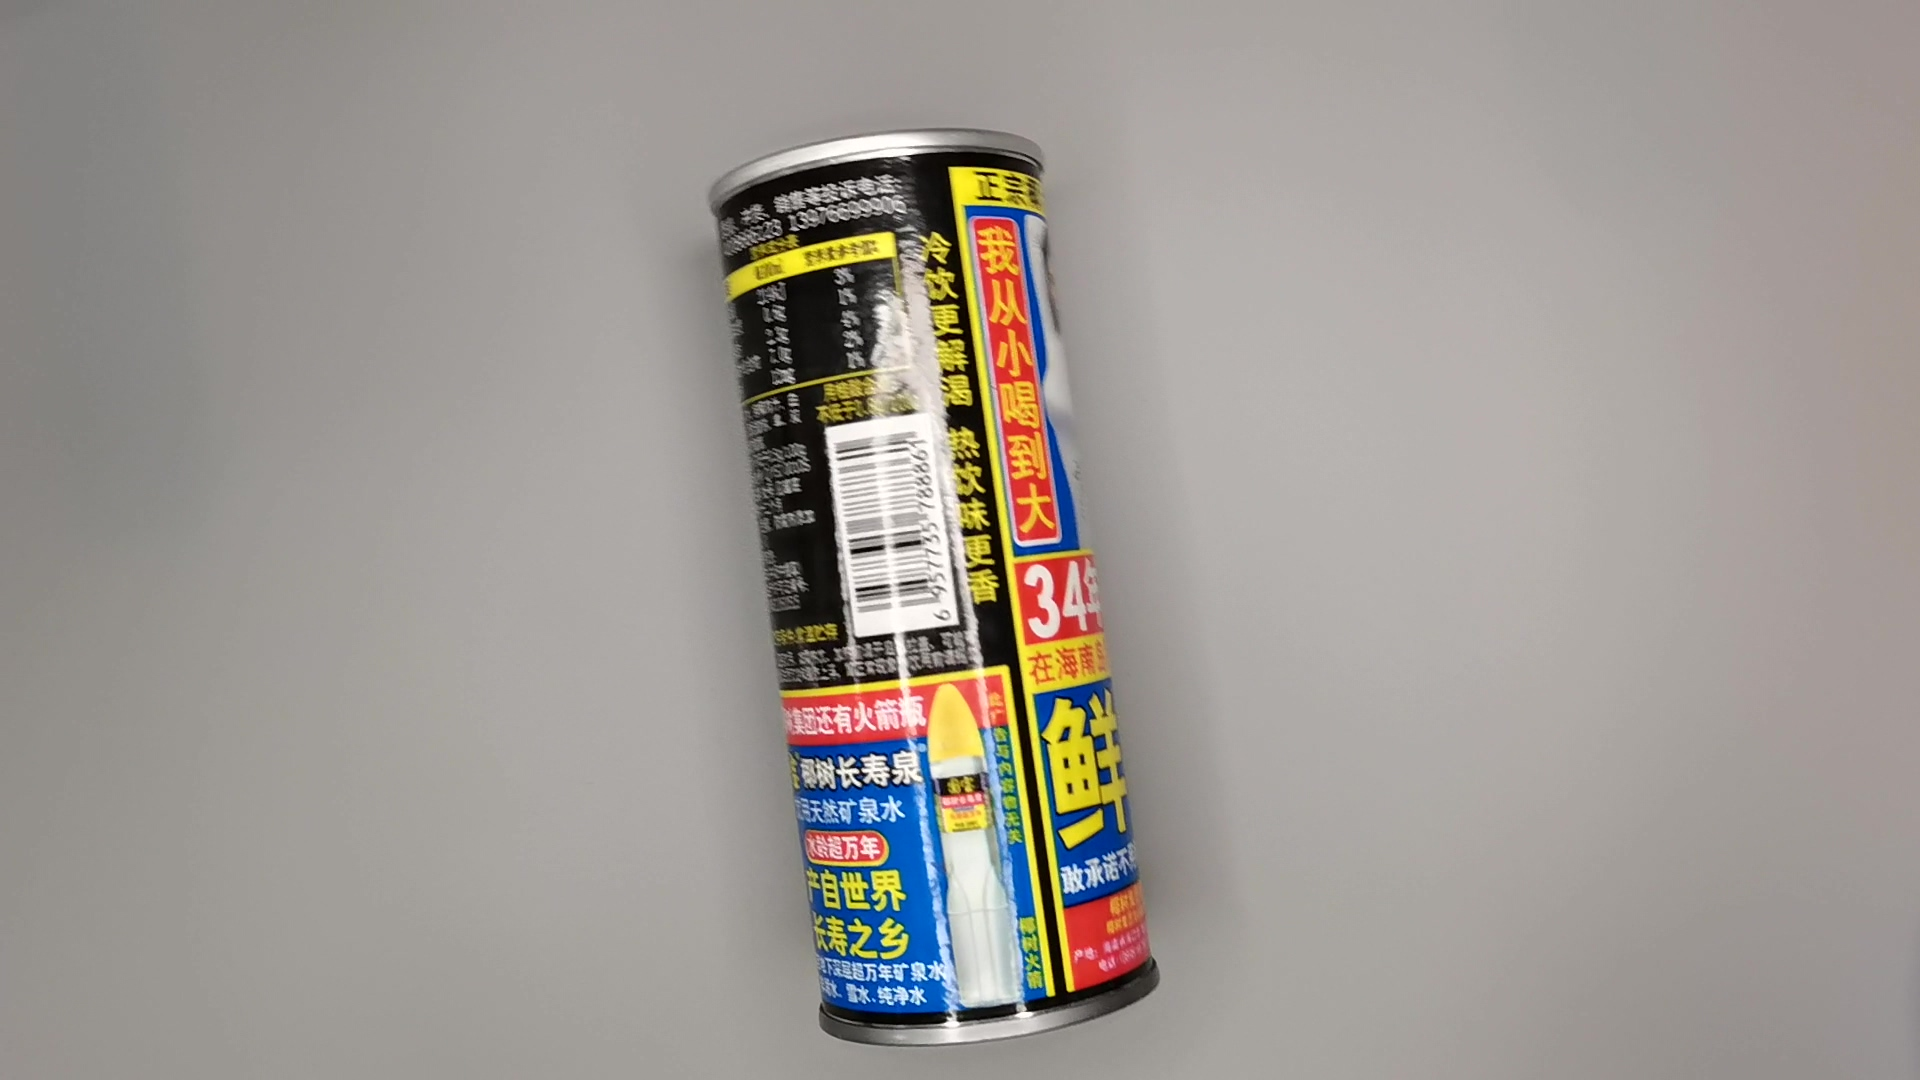can: (704, 117, 1162, 1040)
